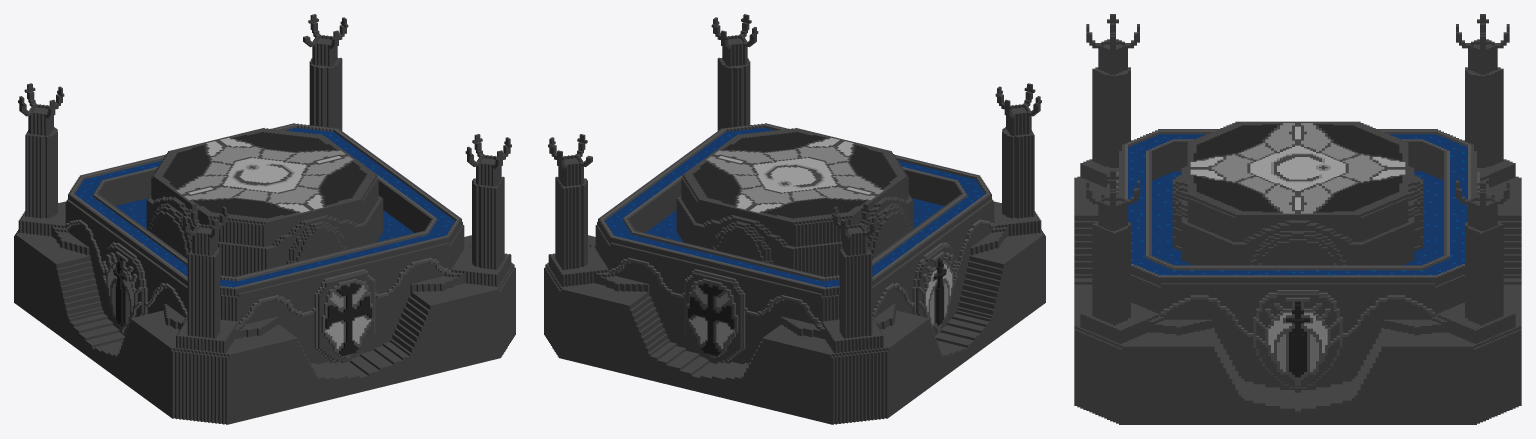
File: подставка для босса.obj
3 renders of one model, left to right at view 1: azimuth 30°, elevation 25°; view 2: azimuth 150°, elevation 25°; view 3: azimuth 270°, elevation 25°, orthographic. The views are drawn at different scales.
Size of the model in its own units: 15 by 8.4 by 15.
Materials: 1 (1 with a texture image).
